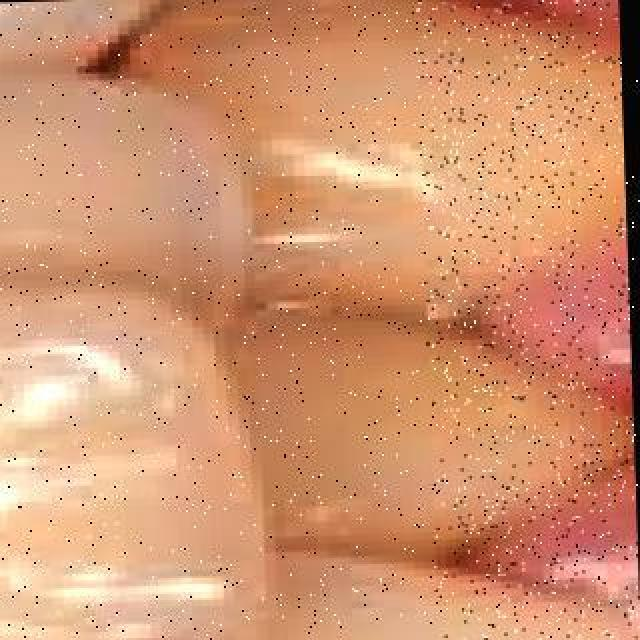maligned: (0, 40, 250, 362)
